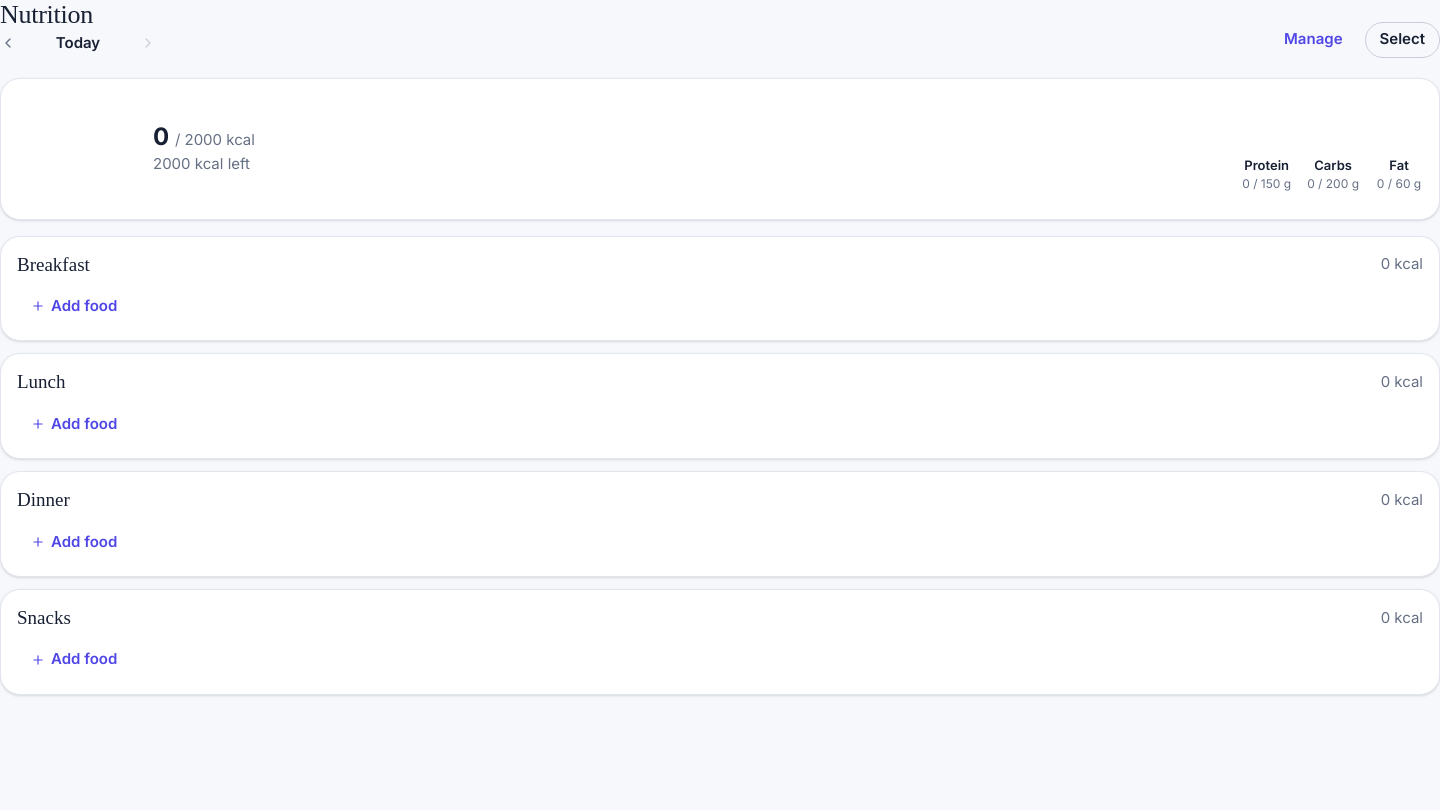
Test: NutritionScreen › prefills the form from a barcode lookup
Click the button with aria-label "Add food to Snacks" at point(74, 660), box 17,642 -> 131,678
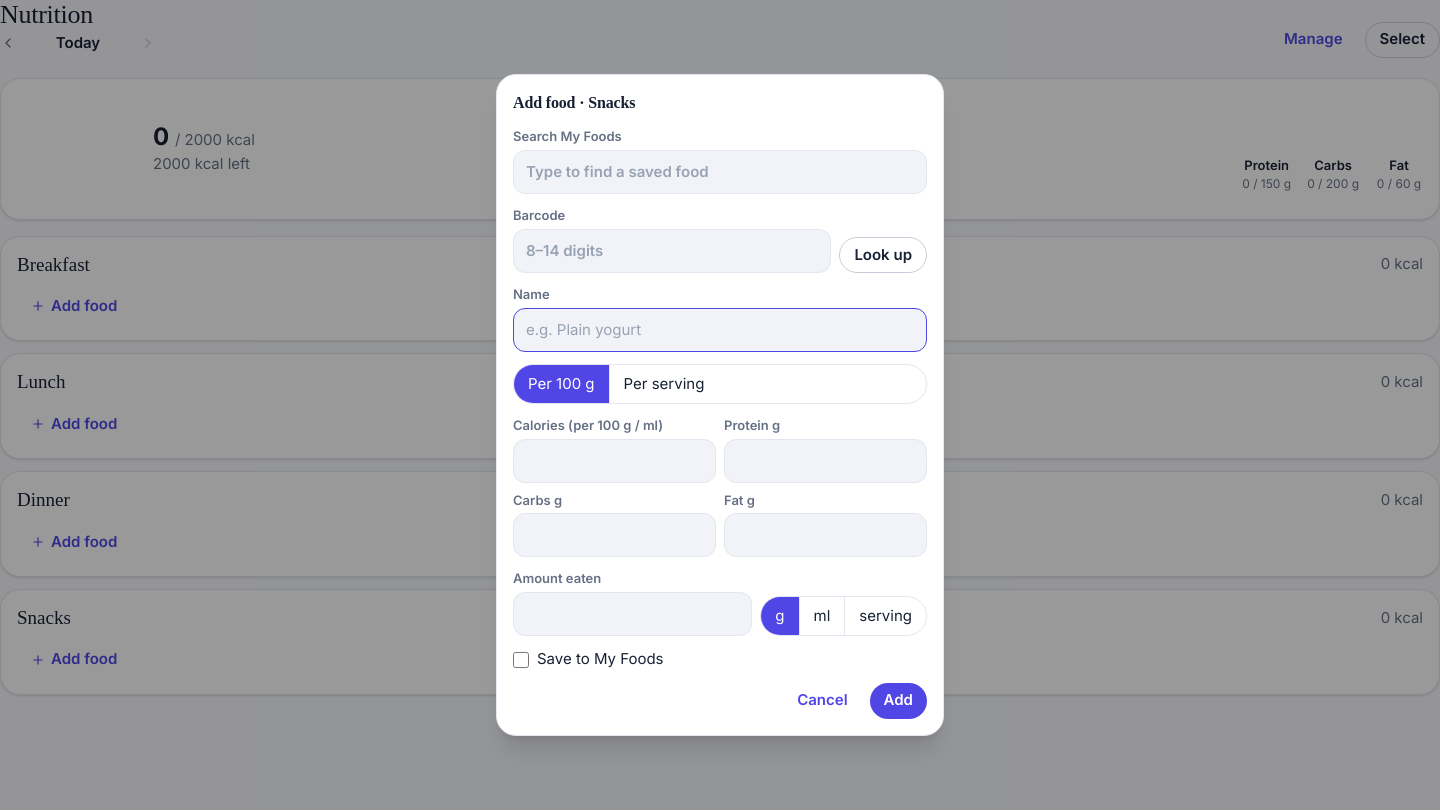
Type "5000112637922" into the field labelled "Barcode" at point(672, 251), box 513,229 -> 831,273
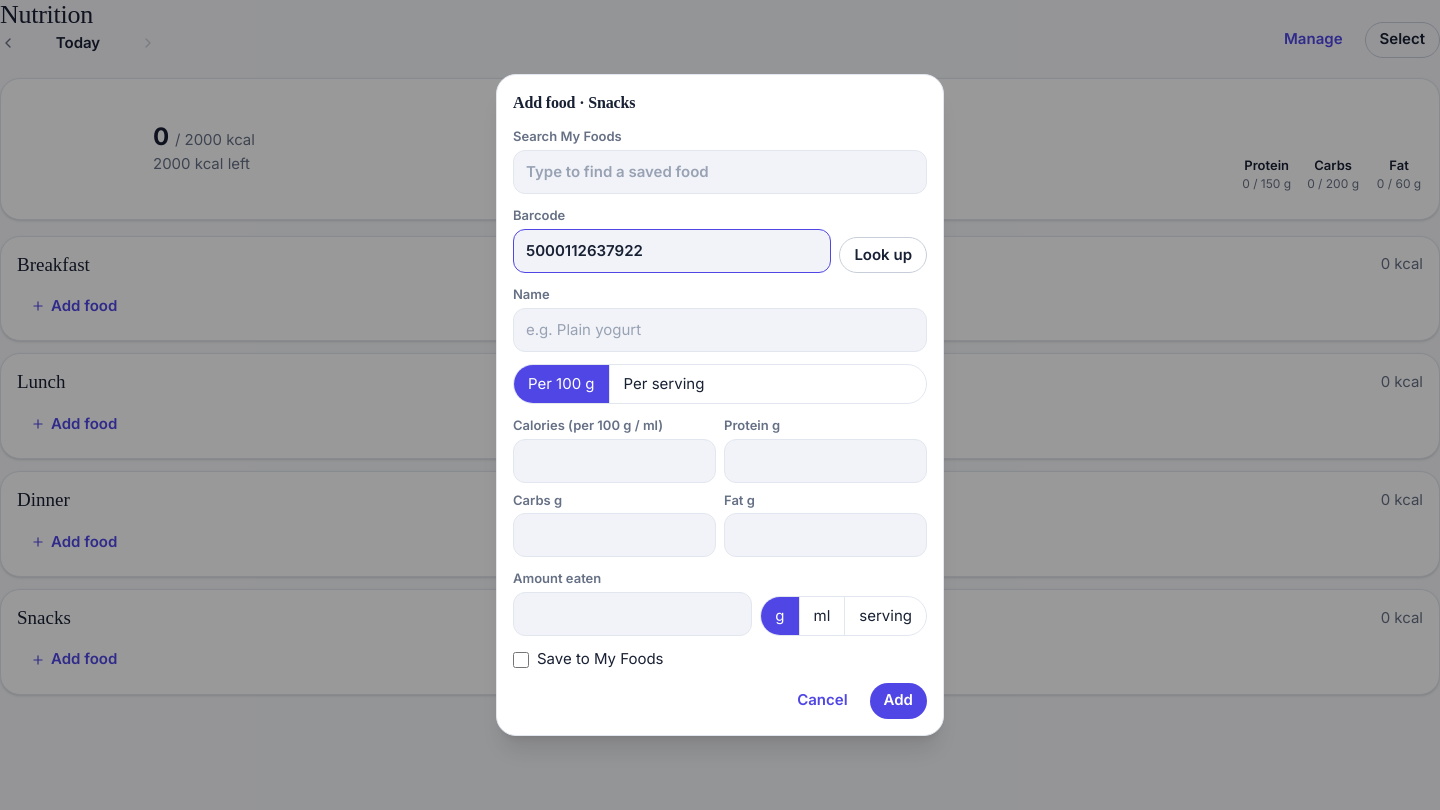
Click the button "Look up" at point(883, 255), box 839,237 -> 927,273
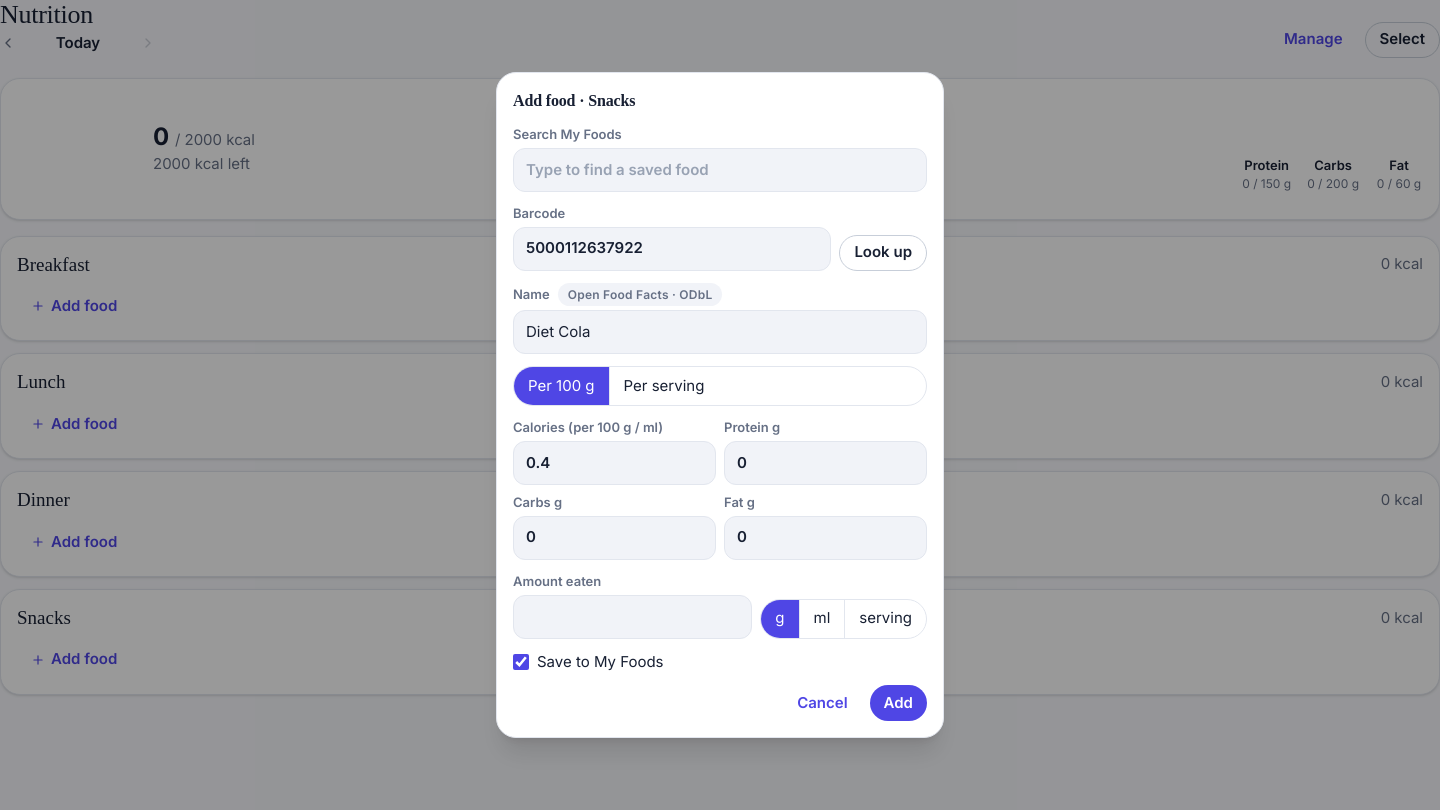
expect the field named "Name" holds "Diet Cola": met, box 513,310 -> 927,354
expect the number field labelled "Calories (per 100 g / ml)" holds "0.4": met, box 513,441 -> 716,485
expect the text "Open Food Facts · ODbL" is shown: met, box 558,283 -> 722,306
